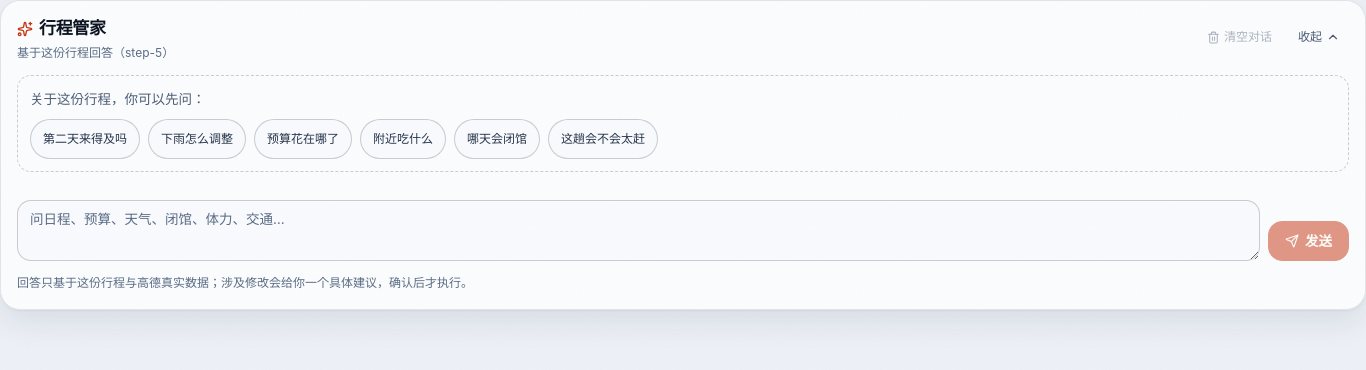
Test: PlanCopilot › 成功答案按纯文本渲染：HTML 标签显示为字面量而不是标签
Type "第二天来得及吗" into the text box named "向行程管家提问".
click(638, 231); type("第二天来得及吗")  # box [17, 200, 1260, 261]
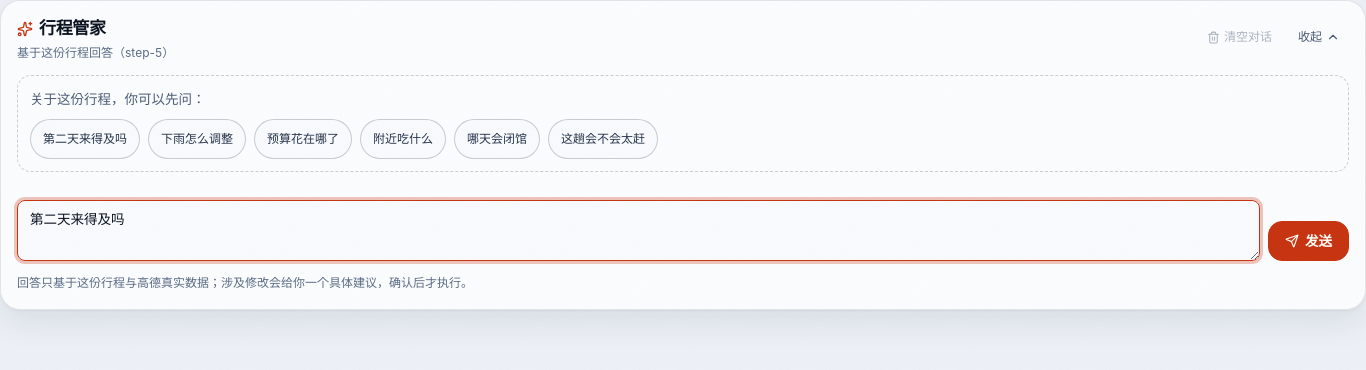
Click the button "发送".
click(1308, 241)  # box [1268, 221, 1349, 261]
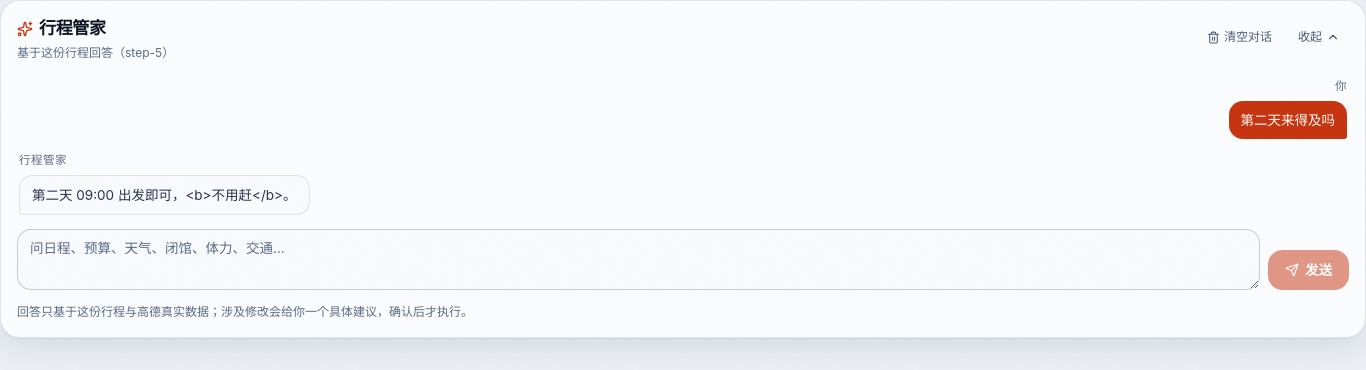
Expected: the text "第二天 09:00 出发即可，<b>不用赶</b>。" is shown, [19, 174, 310, 215]
